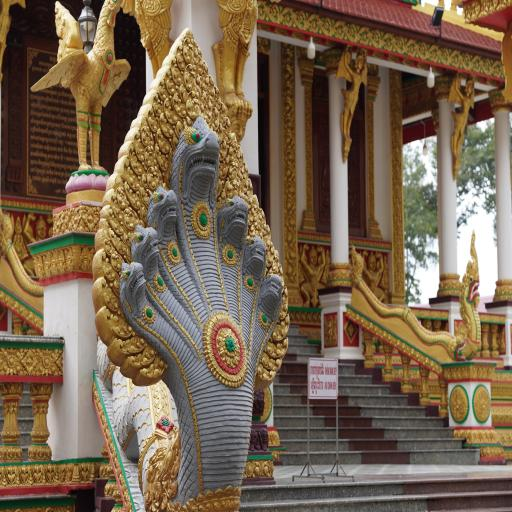ran: (2, 27, 296, 512), (350, 216, 501, 378)
than: (209, 0, 260, 111), (332, 39, 372, 169), (442, 67, 480, 180), (122, 0, 177, 75), (298, 237, 328, 308), (360, 246, 390, 307), (230, 106, 252, 149)
